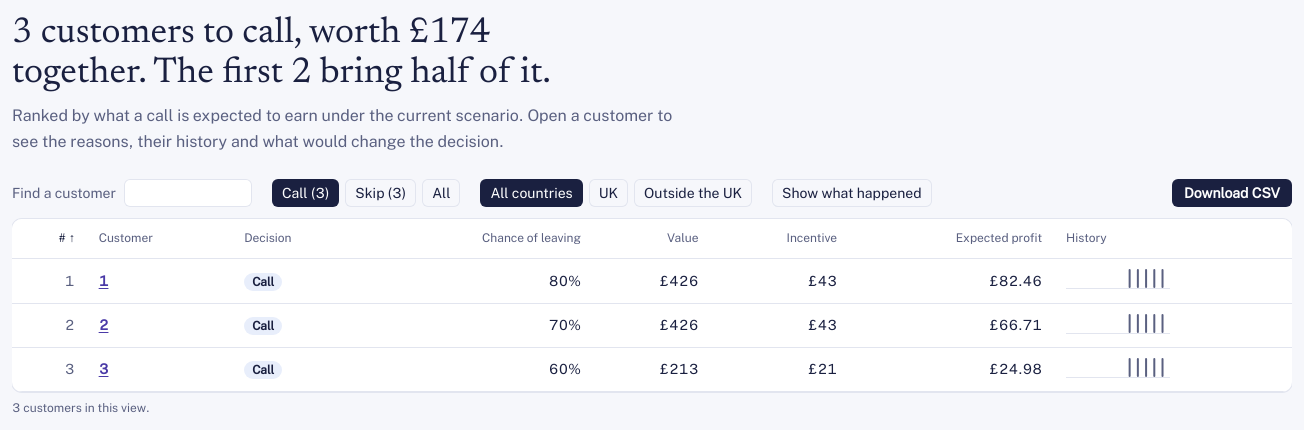
Test: a search that matches no customer at all says so and offers to clear it
Expected: the heading is shown, [12, 16, 551, 92]
Type "999" into the search field labelled "Find a customer" at (188, 193), box [124, 179, 252, 207]
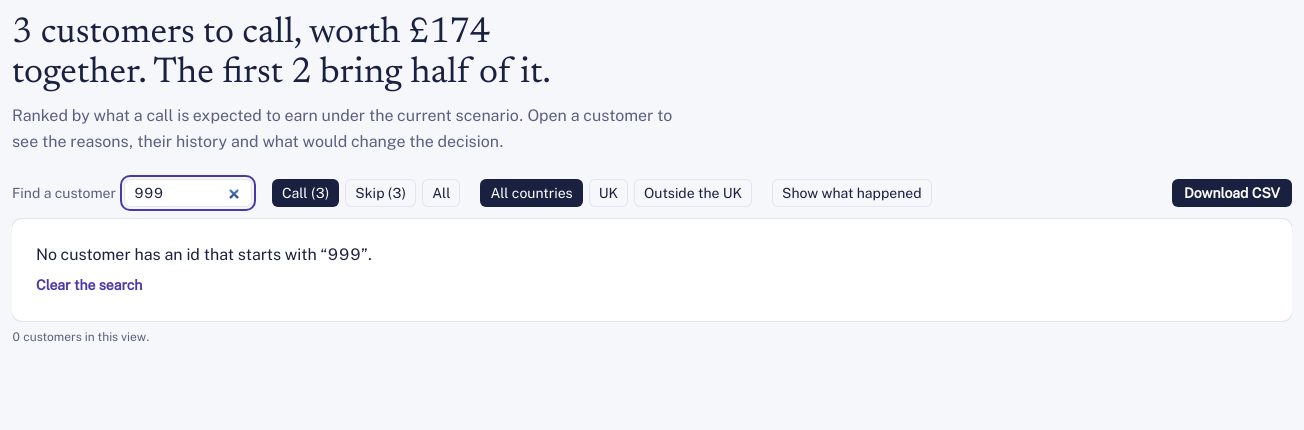
Now the text "No customer has an id that starts with “999”." is shown, box [36, 245, 372, 264]
Click the button "Clear the search" at (89, 285), box [36, 275, 142, 295]
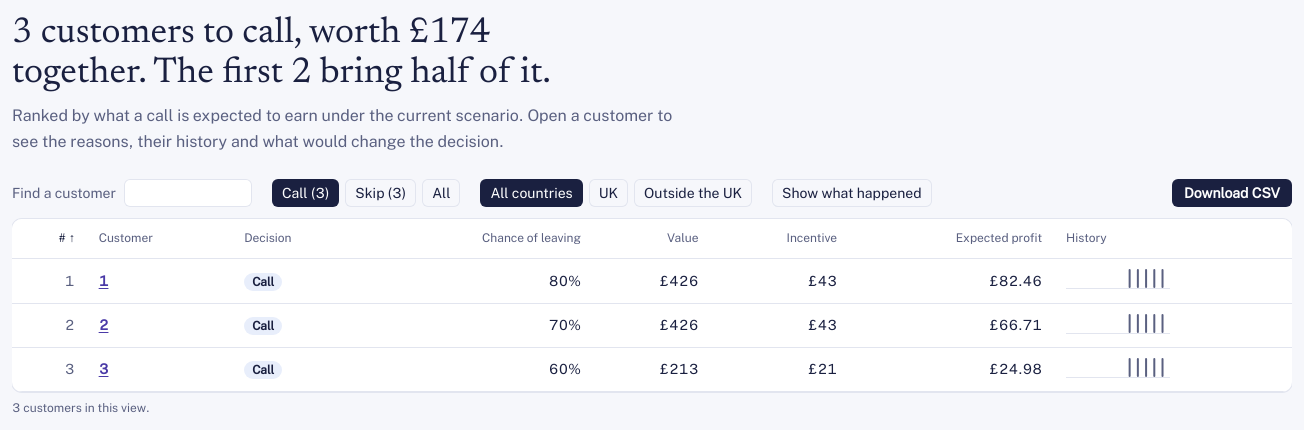
Now the search field labelled "Find a customer" is empty, box [124, 179, 252, 207]
